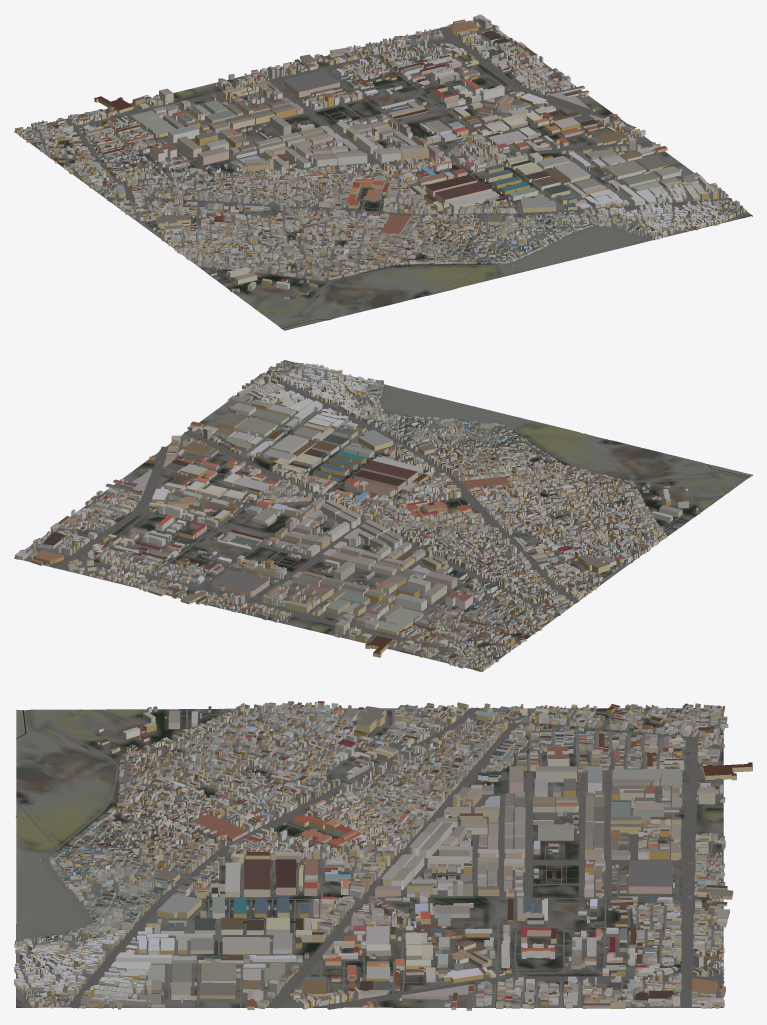
3 views of the same model, one above another, from view 1: azimuth 30°, elevation 25°; view 2: azimuth 150°, elevation 25°; view 3: azimuth 270°, elevation 25° (orthographic). The views are drawn at different scales.
Visible parts, largest first — view 1: buildings, ground, roads; view 2: buildings, ground, roads; view 3: buildings, ground, roads.
Part boxes in pixels (<box>): buildings: <box>15,14,746,299</box>; ground: <box>14,20,752,330</box>; roads: <box>25,26,748,315</box>; buildings: <box>15,361,700,671</box>; ground: <box>14,360,752,671</box>; roads: <box>28,363,728,669</box>; buildings: <box>14,701,752,1010</box>; ground: <box>16,708,723,1007</box>; roads: <box>16,707,724,1009</box>.
Bounding box in the file's own units: 1419 × 33.68 × 1463.
